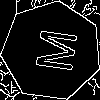M: (26, 26, 77, 74)
